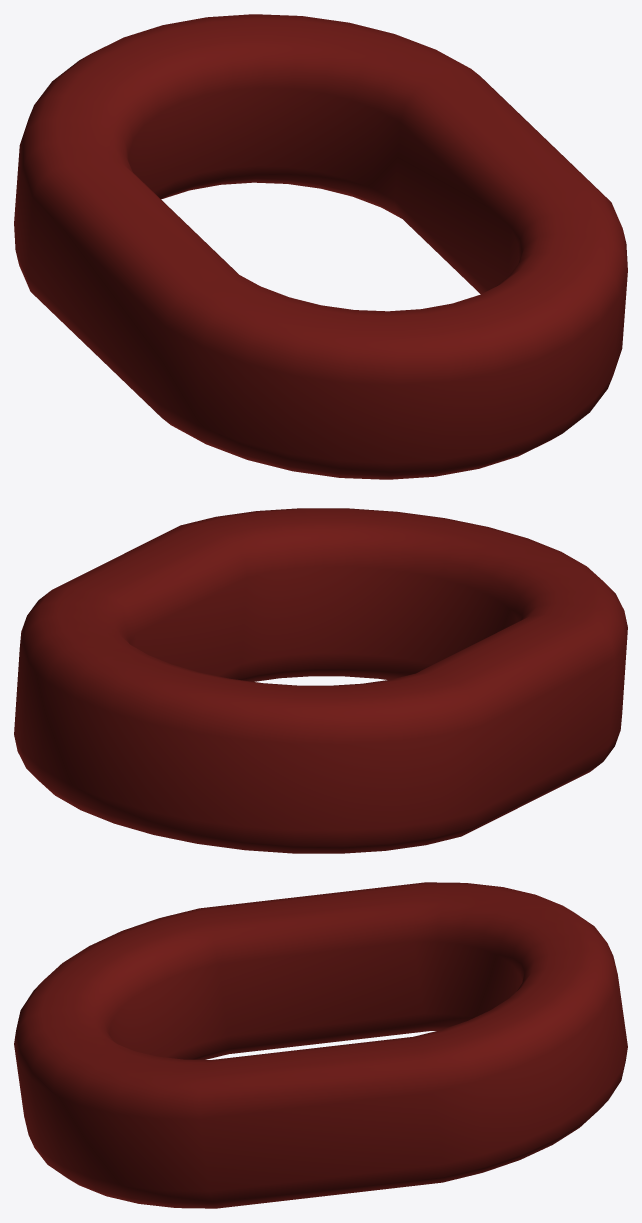
Rendered from Enemy_PainMouth.fbx.
3 renders of one model, top to bottom at view 1: azimuth 30°, elevation 25°; view 2: azimuth 150°, elevation 25°; view 3: azimuth 270°, elevation 25°, orthographic. The views are drawn at different scales.
Visible parts, largest first — view 1: Cylinder.002; view 2: Cylinder.002; view 3: Cylinder.002.
Part boxes in pixels (<box>): Cylinder.002: <box>14,14,627,479</box>; Cylinder.002: <box>14,508,627,853</box>; Cylinder.002: <box>14,882,627,1208</box>.
Bounding box in the file's own units: 40.04 × 18.41 × 53.88.
